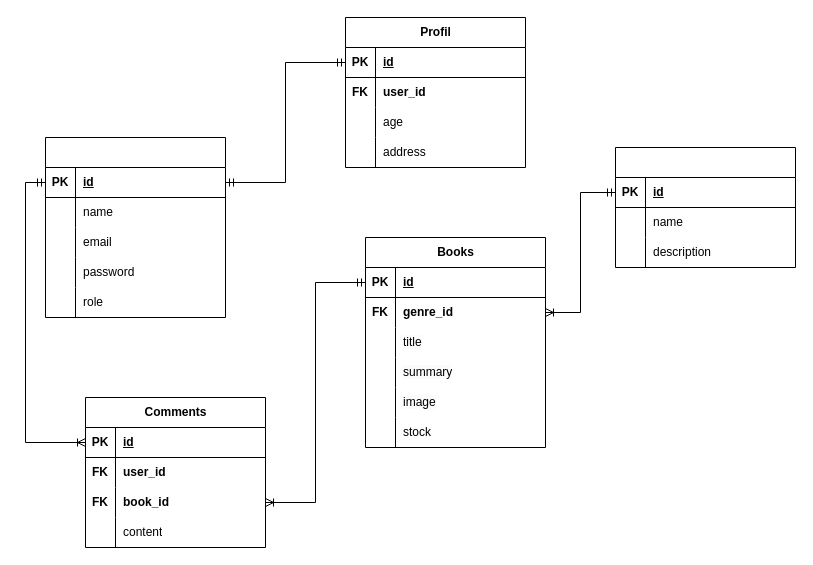
The diagram is 813 pixels wide and 565 high, and some of its shapes have lost their labels. The shapes that lost their labels are listed below. From the top down, each one's box as (x1, y1, x2, y2) in pixels, then its label:
(44, 136, 226, 318): User
(614, 146, 796, 268): Genre
